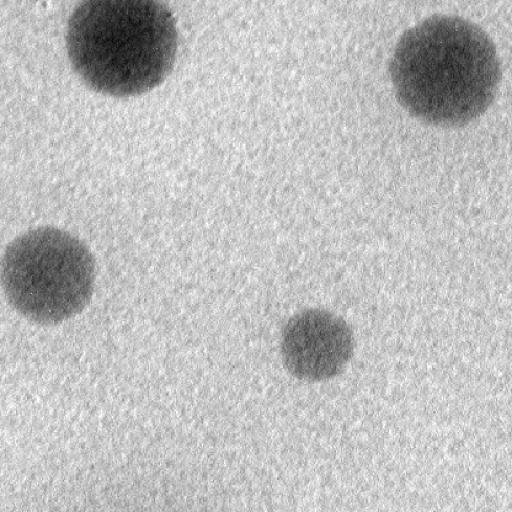Nanoparticles: (388, 14, 502, 126), (65, 1, 183, 102), (0, 224, 99, 324), (277, 306, 355, 385)
